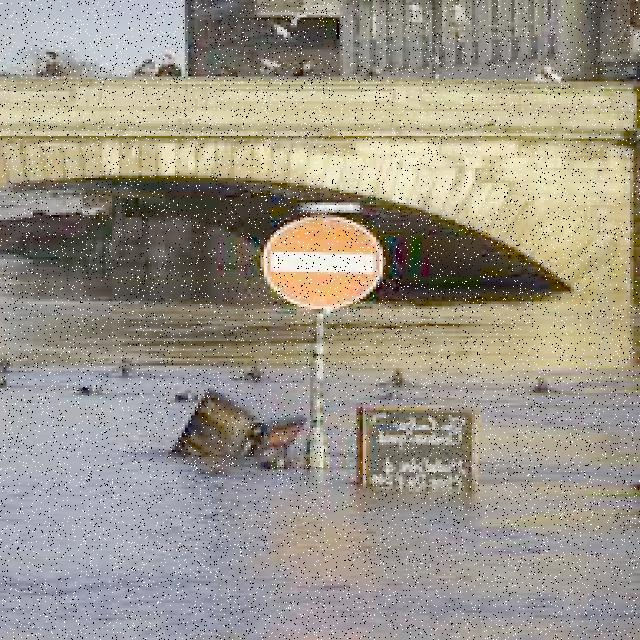no entry: (264, 215, 386, 309)
